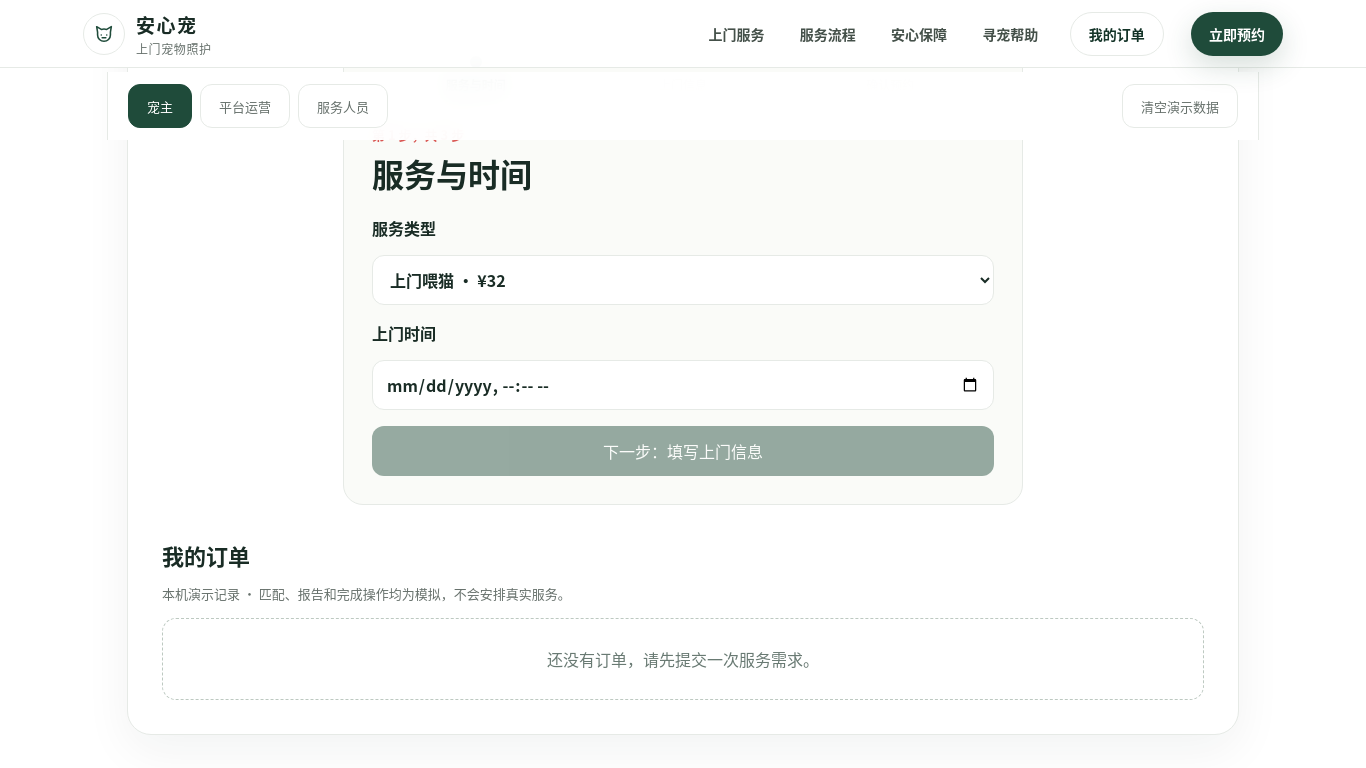
Test: DemoApp public framing › clears the receipt and starts an empty form when demo data is explicitly cleared
(page scrolled)
Type "2026-09-01T19:00" into the field labelled "上门时间".
click(683, 385); type("2026-09-01T19:00")  # box [372,360,994,410]
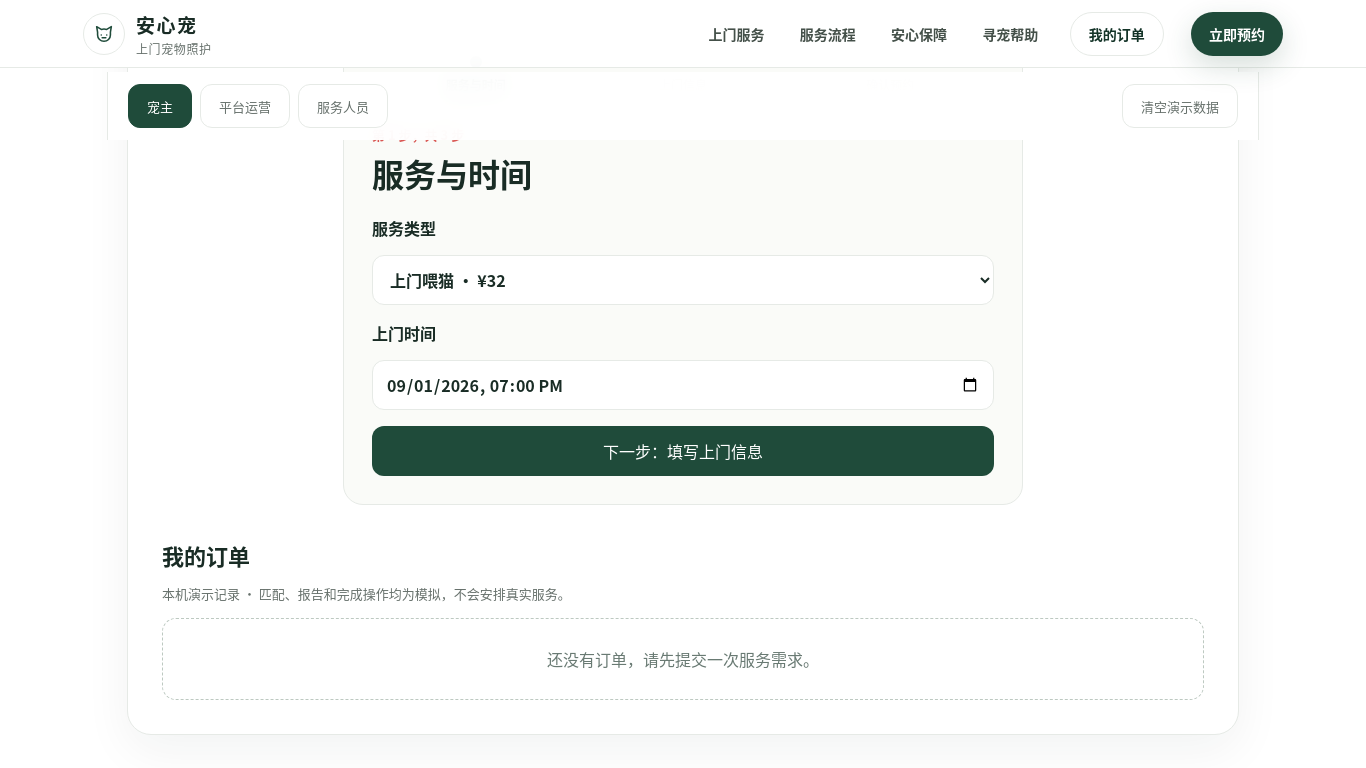
Click the button "下一步：填写上门信息".
click(683, 451)  # box [372,426,994,476]
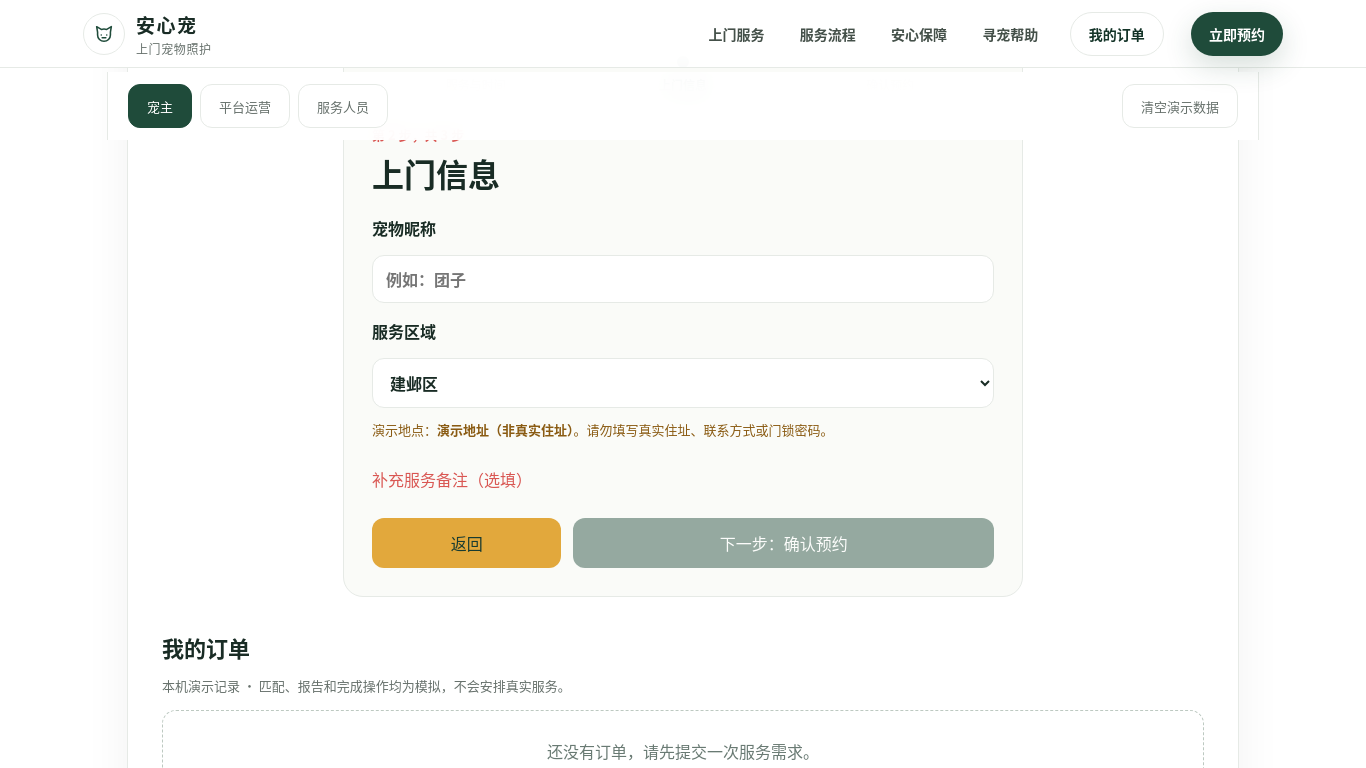
Type "测试宠物" into the field labelled "宠物昵称".
click(683, 279); type("测试宠物")  # box [372,255,994,303]
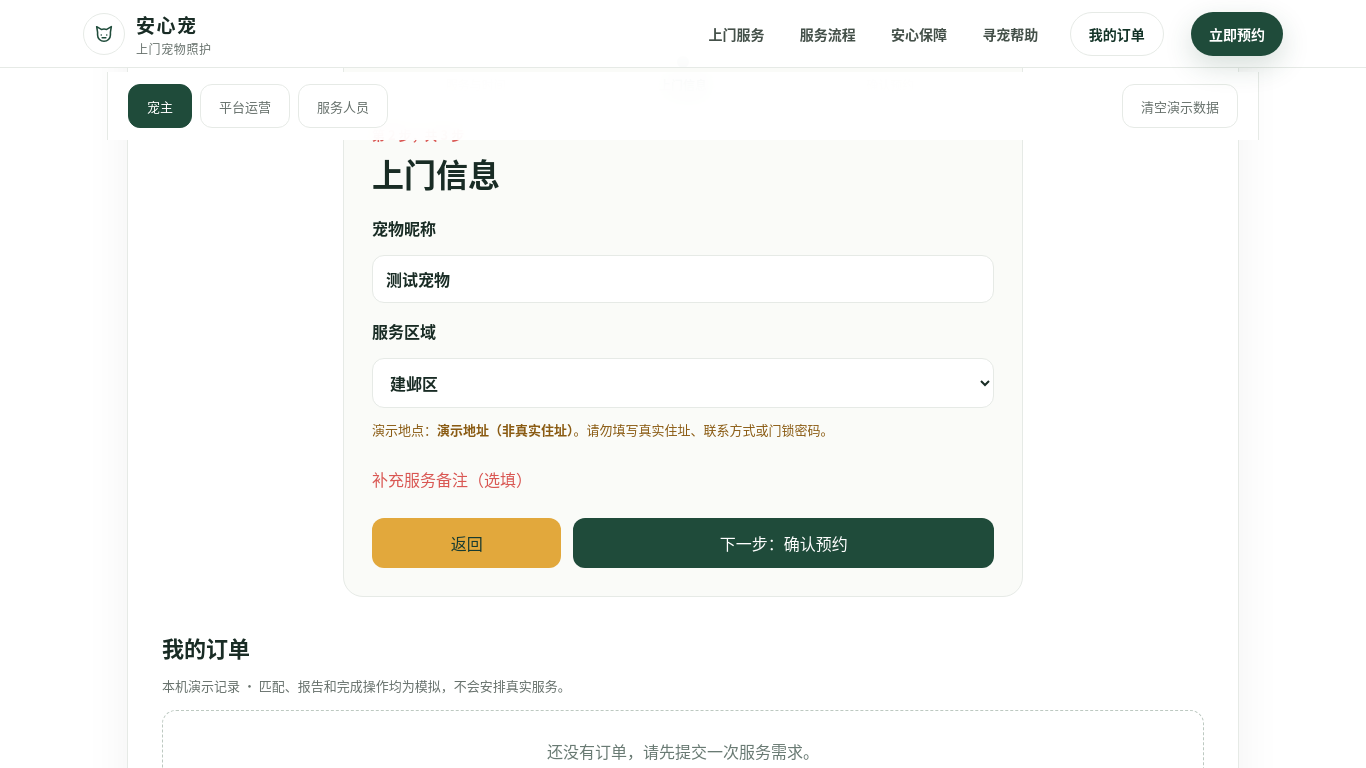
Click the button "下一步：确认预约".
click(784, 543)  # box [573,518,994,568]
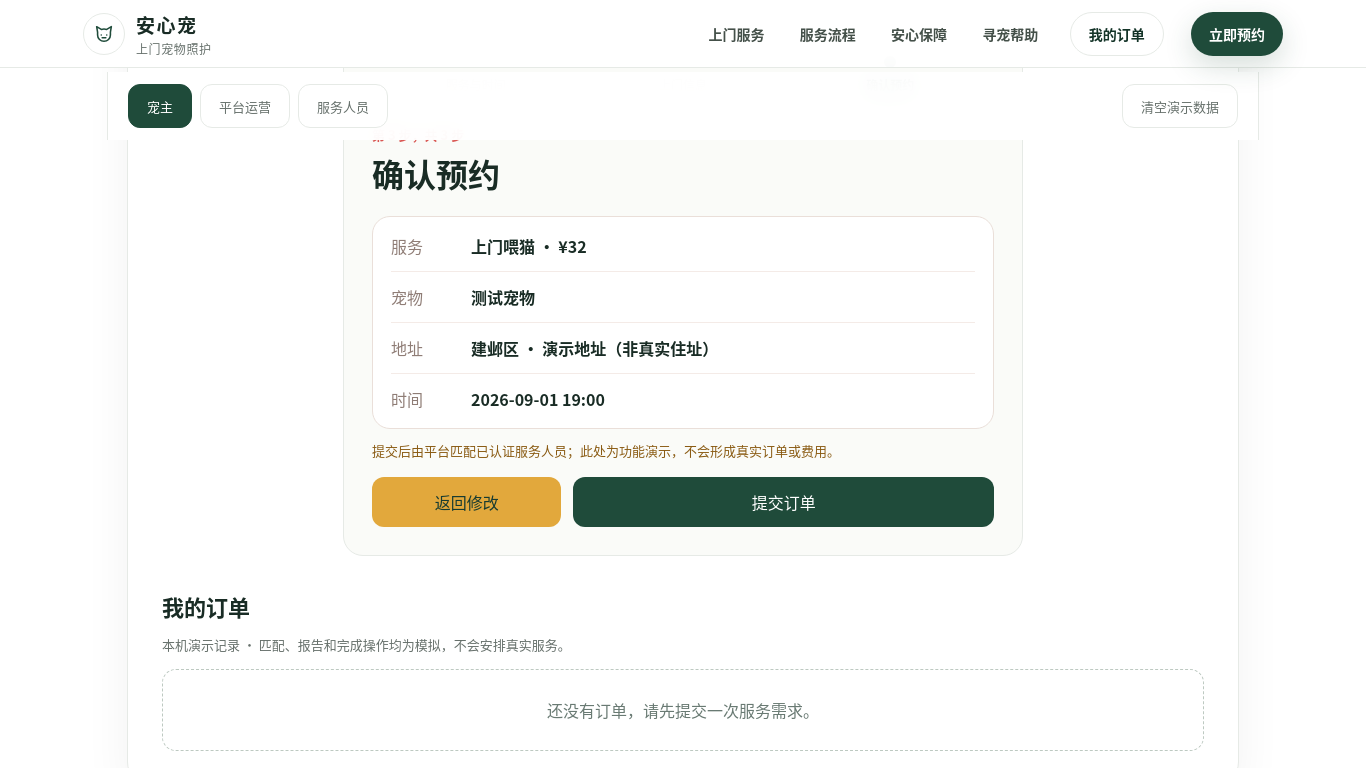
Click the button "提交订单".
click(784, 502)  # box [573,477,994,527]
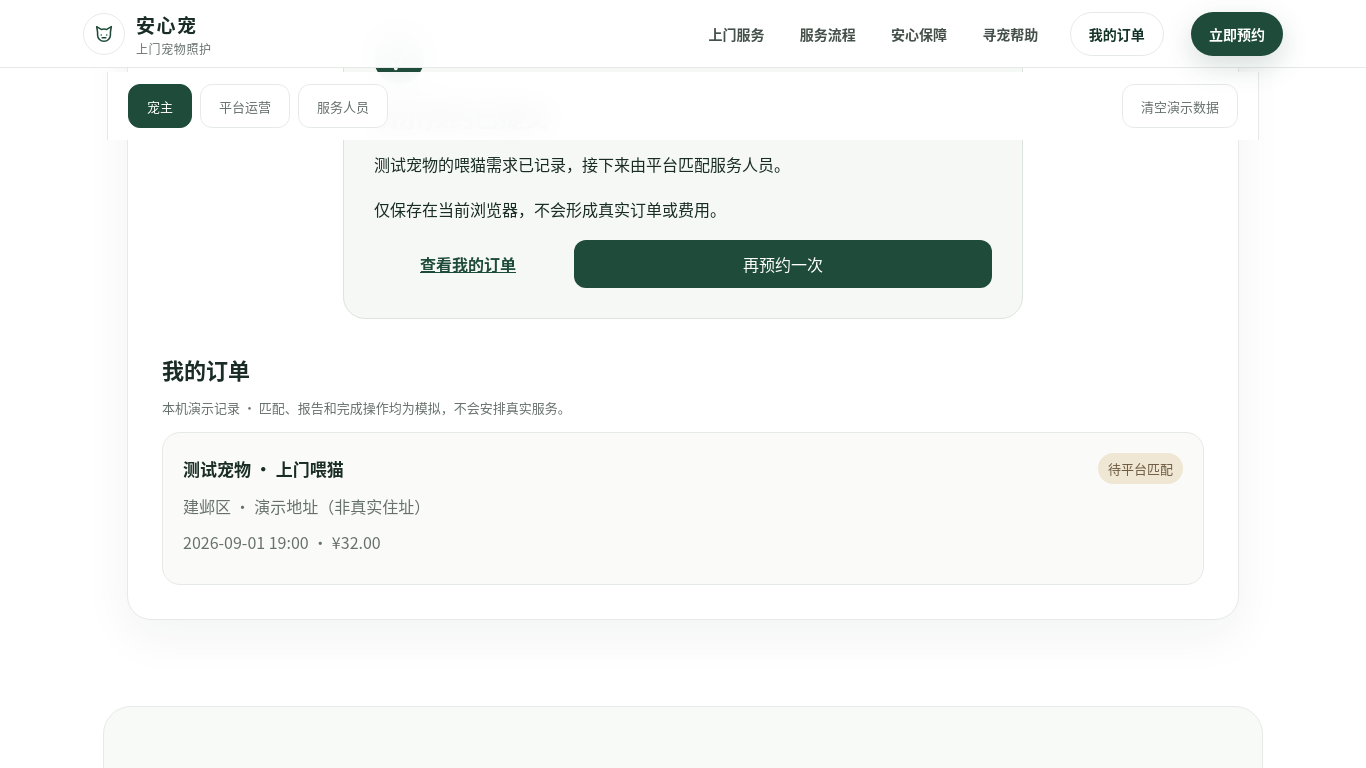
Expected: the heading "演示预约已提交" is shown, [374,98,549,134]
Click the button "清空演示数据".
click(1180, 106)  # box [1122,84,1238,128]
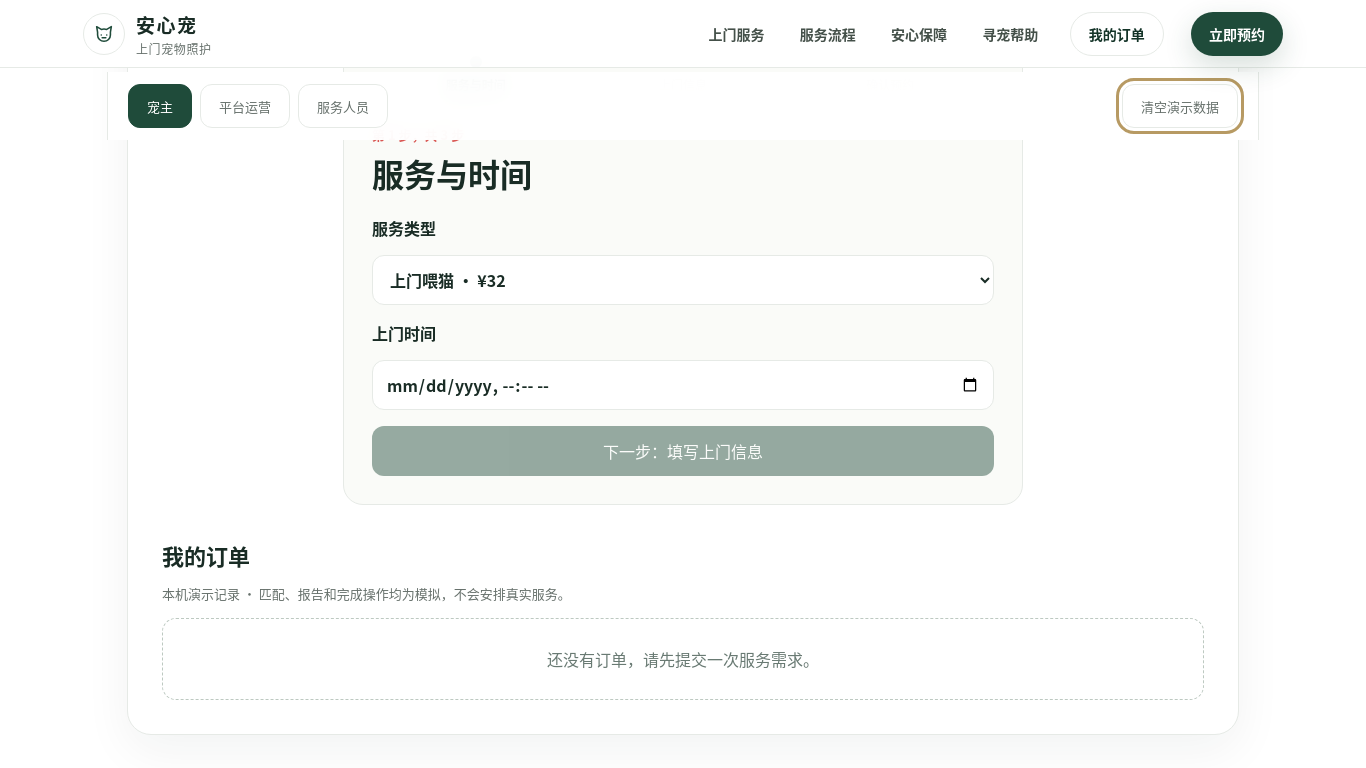
Expected: the heading "演示预约已提交" is not shown
Now the field labelled "上门时间" is empty, box [372,360,994,410]
